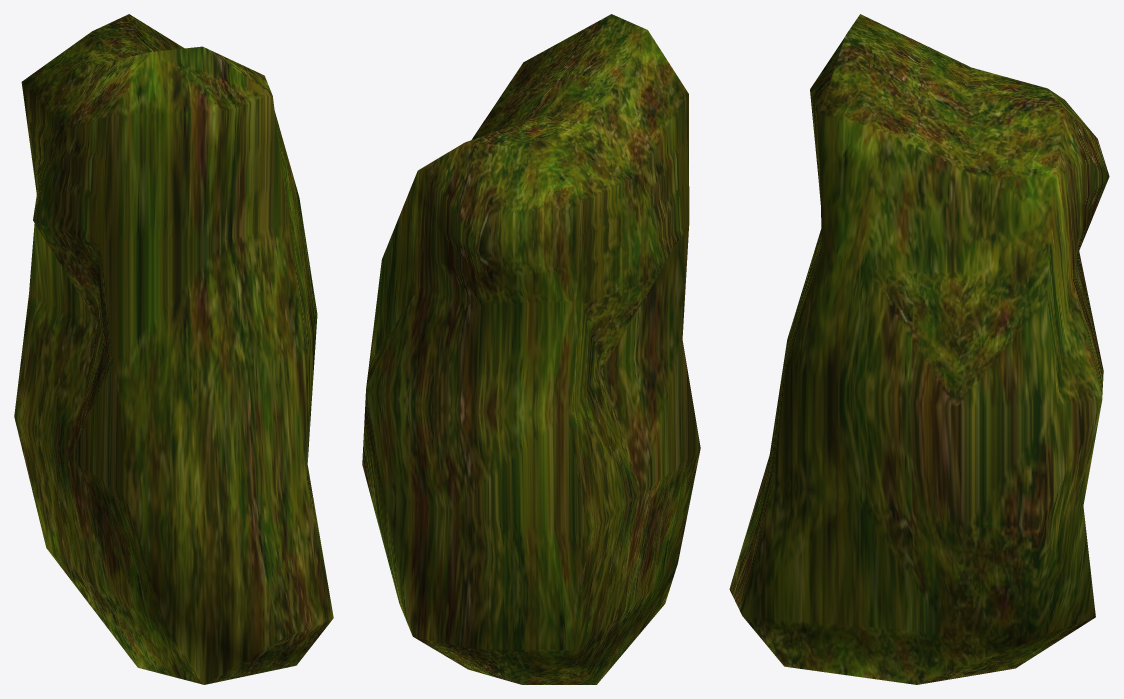
File: TROLLHOLE02_RM_PSURF269.fbx
The picture shows the model from 3 angles, left to right: view 1: azimuth 30°, elevation 25°; view 2: azimuth 150°, elevation 25°; view 3: azimuth 270°, elevation 25°; orthographic projection.
Parts seen in each view (by area): view 1: TROLLHOLE02_RM_PSURF269; view 2: TROLLHOLE02_RM_PSURF269; view 3: TROLLHOLE02_RM_PSURF269.
Boxes of the visible parts, box(x1,y1,x2,y2) form: TROLLHOLE02_RM_PSURF269: box(14, 14, 333, 684); TROLLHOLE02_RM_PSURF269: box(362, 14, 700, 684); TROLLHOLE02_RM_PSURF269: box(729, 14, 1109, 684).
Bounding box in the file's own units: 44418 × 103995 × 56541.
1 material, 1 textured.
